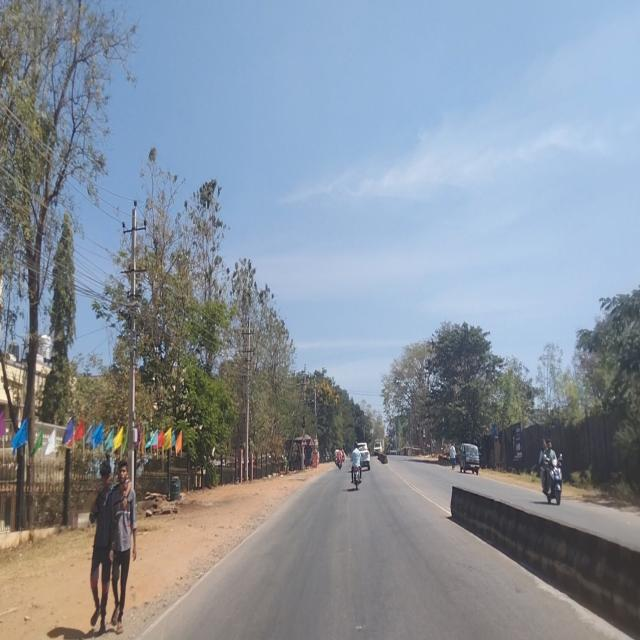bien_cam: (301, 434, 307, 447), (309, 436, 314, 446)
